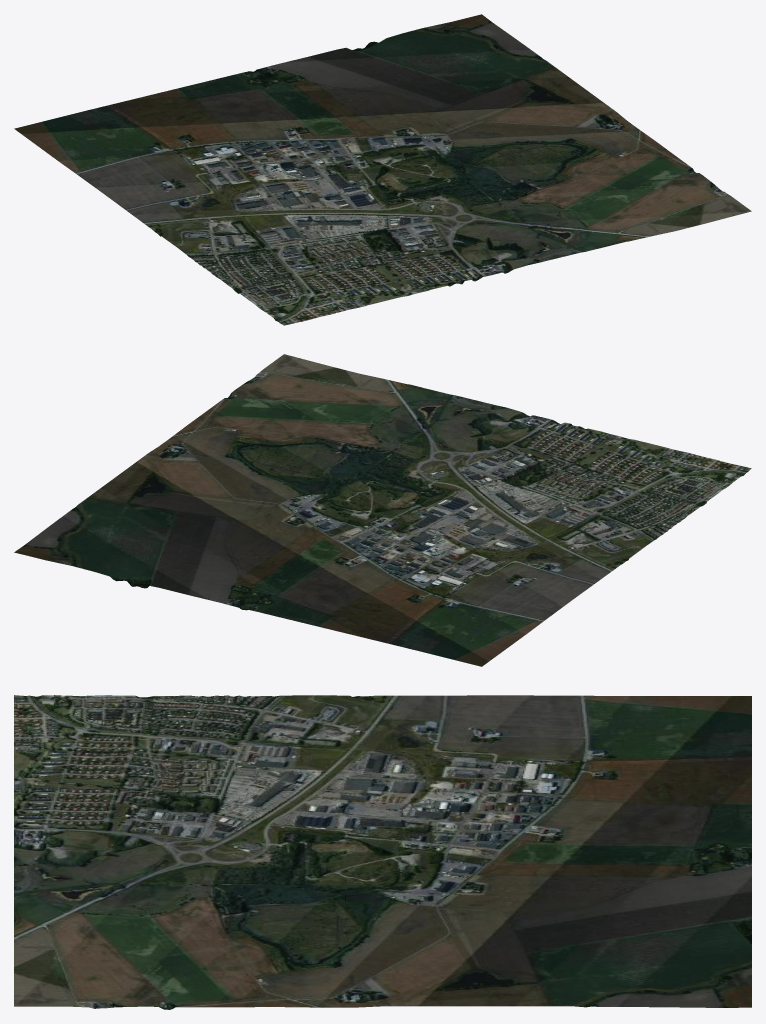
The model's file is map_10_253_432.dae.
3 renders of one model, top to bottom at view 1: azimuth 30°, elevation 25°; view 2: azimuth 150°, elevation 25°; view 3: azimuth 270°, elevation 25°, orthographic. The views are drawn at different scales.
Parts seen in each view (by area): view 1: Ter0; view 2: Ter0; view 3: Ter0.
Part boxes in pixels (x1=…): Ter0: x1=14, y1=14, x2=751, y2=325; Ter0: x1=14, y1=354, x2=751, y2=666; Ter0: x1=14, y1=695, x2=751, y2=1009.
Bounding box in the file's own units: 2044 × 2044 × 29.7.
3 materials, 3 textured.
